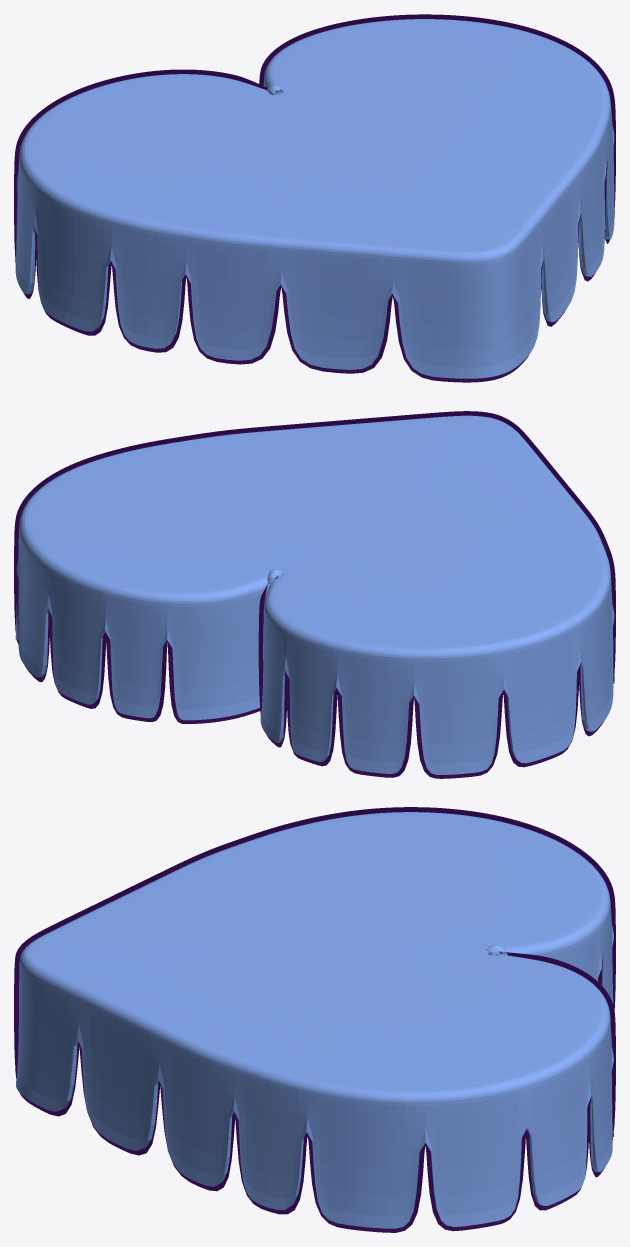
File: coracao azul.glb
3 renders of one model, top to bottom at view 1: azimuth 30°, elevation 25°; view 2: azimuth 150°, elevation 25°; view 3: azimuth 270°, elevation 25°, orthographic. The views are drawn at different scales.
Visible parts, largest first — view 1: Circle.009; view 2: Circle.009; view 3: Circle.009.
Part boxes in pixels (<box>): Circle.009: <box>14,14,615,382</box>; Circle.009: <box>14,411,615,778</box>; Circle.009: <box>14,807,615,1232</box>.
Bounding box in the file's own units: 25.3 × 6.05 × 22.1.
